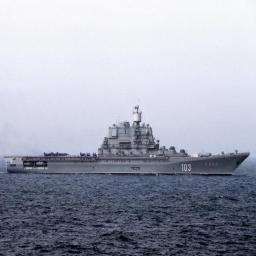Portanaves: (4, 105, 254, 178)
